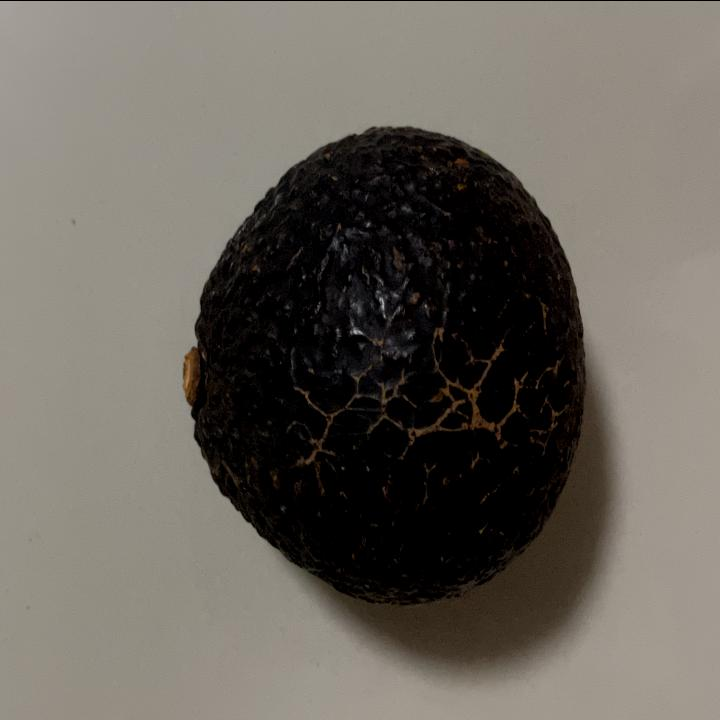Level3: (171, 112, 595, 618)
